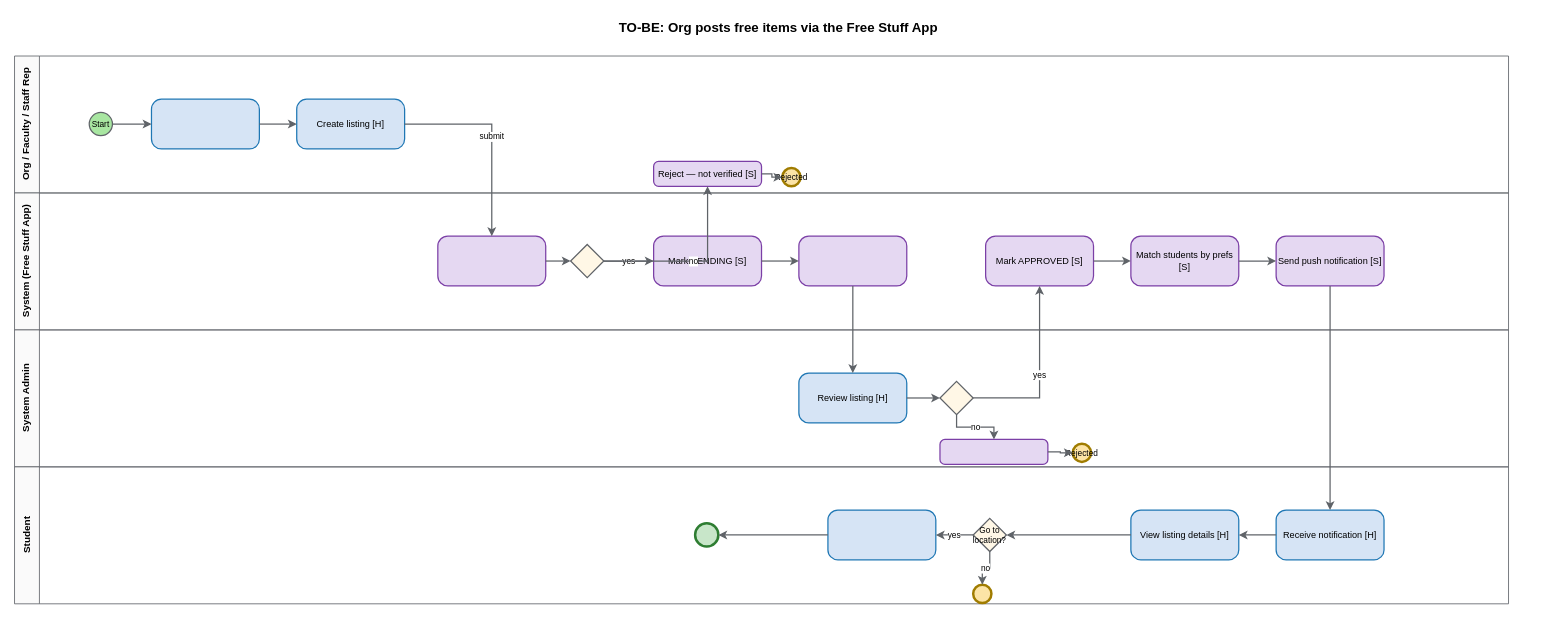
Some shapes in this 1556 by 618 pixel diagram are drawn without their labels. The shapes that lost their labels are listed below. From the top down, each one's centre as x and y in pixels, then its label:
point 205,123: Log in to app [H]
point 491,260: Validate fields [S]
point 587,260: Org verified?
point 852,260: Notify admin [S]
point 956,397: Approve?
point 993,451: Notify org — rejected [S]
point 706,534: Item claimed
point 881,534: Walk to location & claim item [H]
point 982,593: Not interested
